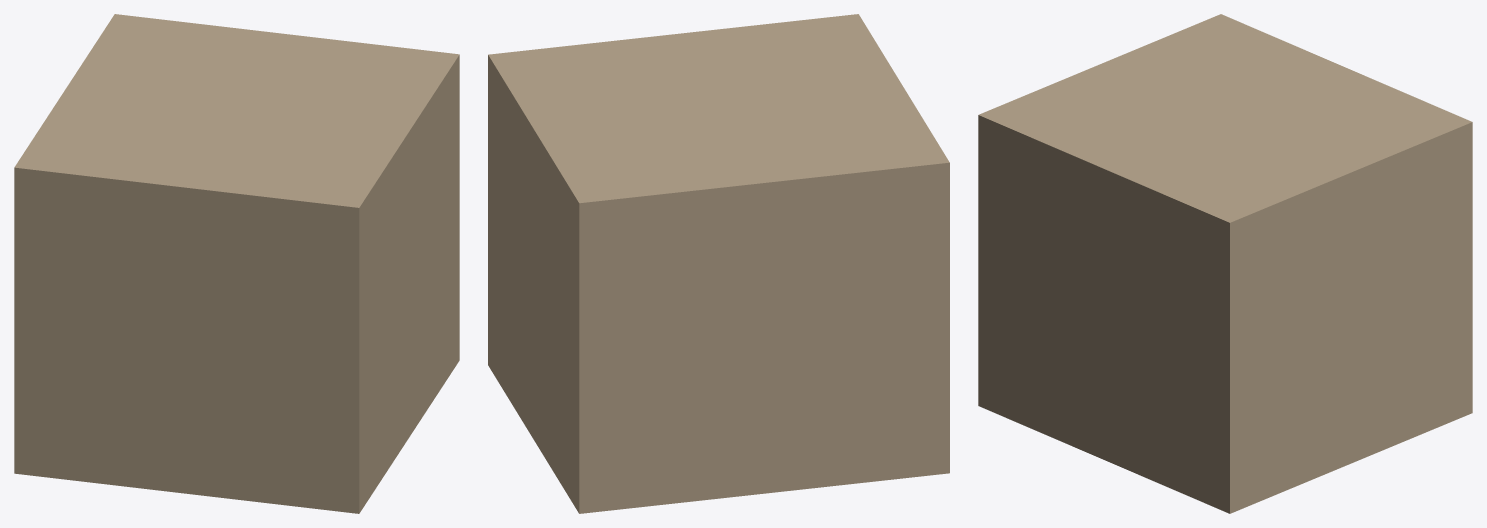
Rendered from bld_106338931.dae.
3 views of the same model, side by side, from view 1: azimuth 30°, elevation 25°; view 2: azimuth 150°, elevation 25°; view 3: azimuth 270°, elevation 25° (orthographic). The views are drawn at different scales.
Visible parts, largest first — view 1: bld_106338931; view 2: bld_106338931; view 3: bld_106338931.
Boxes of the visible parts, <box> form: bld_106338931: <box>14,14,459,513</box>; bld_106338931: <box>488,14,949,513</box>; bld_106338931: <box>978,14,1472,513</box>.
Size of the model in its own units: 12.32 by 12.31 by 8.
